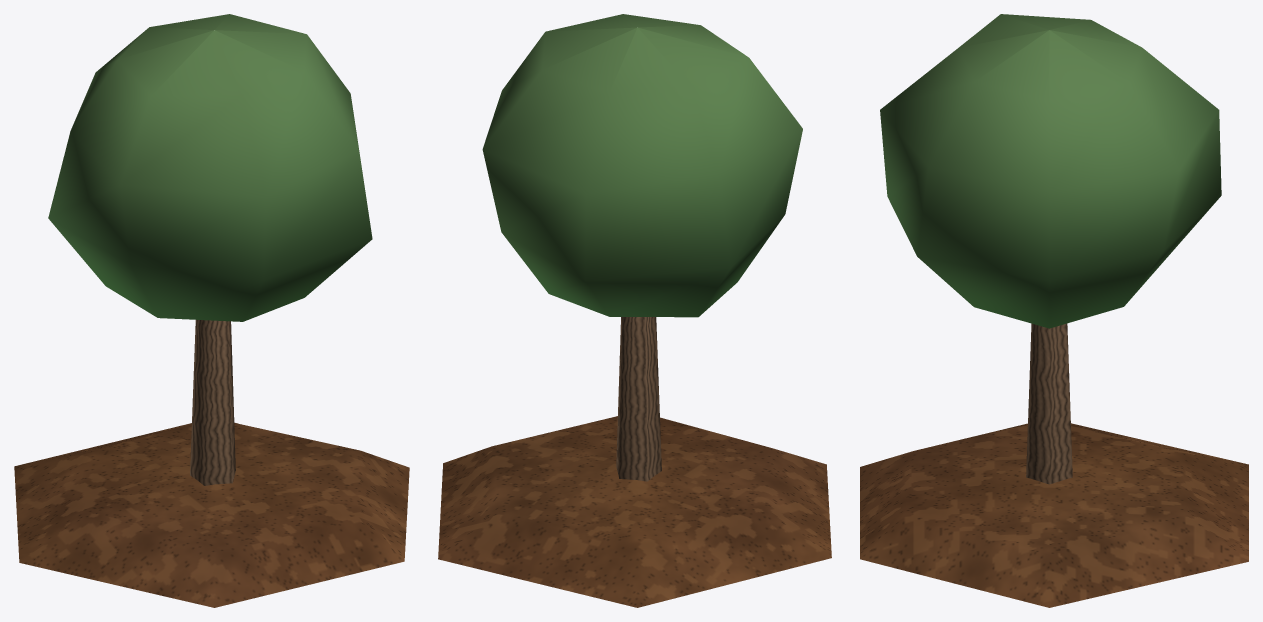
File: plant-apple-1-far.glb
3 renders of one model, left to right at view 1: azimuth 30°, elevation 25°; view 2: azimuth 150°, elevation 25°; view 3: azimuth 270°, elevation 25°, orthographic.
Parts seen in each view (by area): view 1: plant-apple-1-far; view 2: plant-apple-1-far; view 3: plant-apple-1-far.
Part boxes in pixels (left/top/right/bottom): plant-apple-1-far: left=14, top=14, right=409, bottom=607; plant-apple-1-far: left=438, top=14, right=831, bottom=607; plant-apple-1-far: left=860, top=14, right=1248, bottom=607.
Size of the model in its own units: 1 by 1.19 by 0.866.
Materials: 3 (2 with a texture image).
